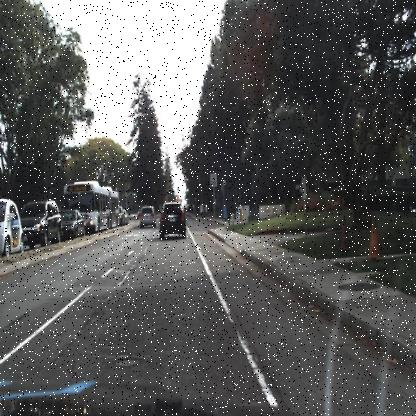car: (21, 190, 63, 247), (22, 196, 60, 248), (0, 198, 24, 256), (158, 199, 188, 241), (58, 207, 86, 241), (59, 207, 86, 240), (138, 203, 158, 230)
truck: (78, 180, 121, 231)
